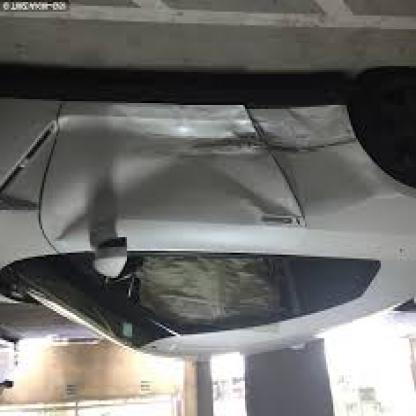dent: (147, 107, 311, 166), (56, 190, 94, 242)
